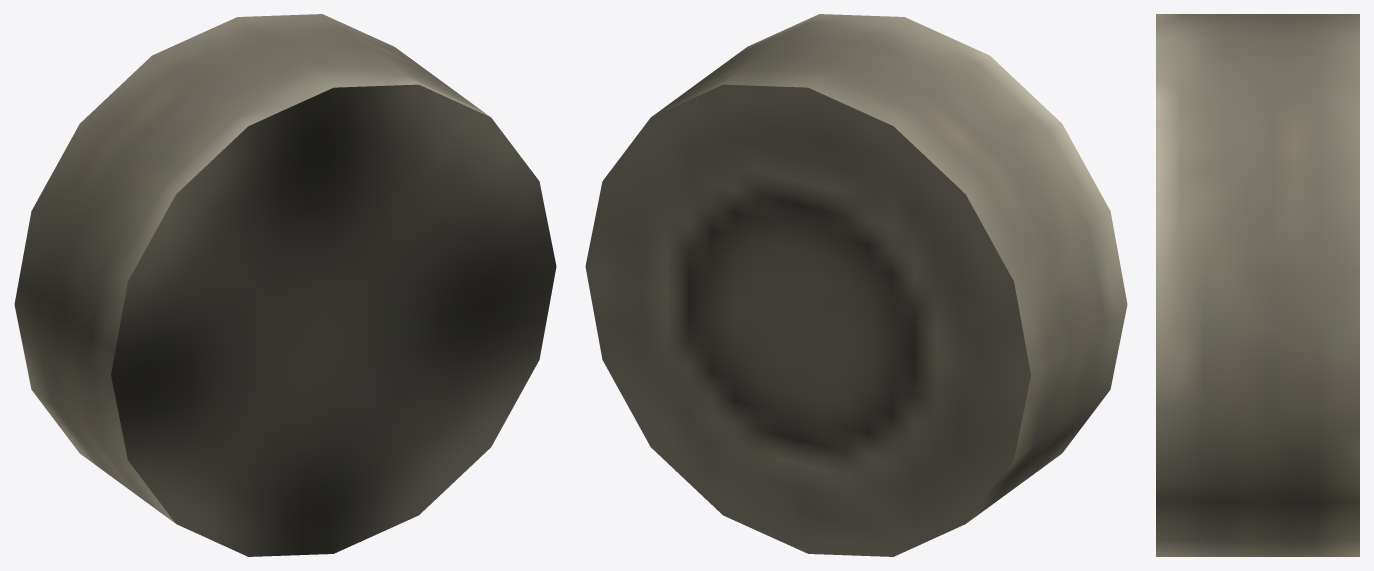
File: dorsal_end.obj
3 views of the same model, side by side, from view 1: azimuth 30°, elevation 25°; view 2: azimuth 150°, elevation 25°; view 3: azimuth 270°, elevation 25° (orthographic). The views are drawn at different scales.
Visible parts, largest first — view 1: mesh1; view 2: mesh1; view 3: mesh1.
Boxes of the visible parts, box(x1,y1,x2,y2) form: mesh1: box(14, 14, 556, 556); mesh1: box(585, 14, 1127, 556); mesh1: box(1156, 14, 1359, 556).
Size of the model in its own units: 0.1 by 0.1 by 0.0375.
Materials: 1 (1 with a texture image).
